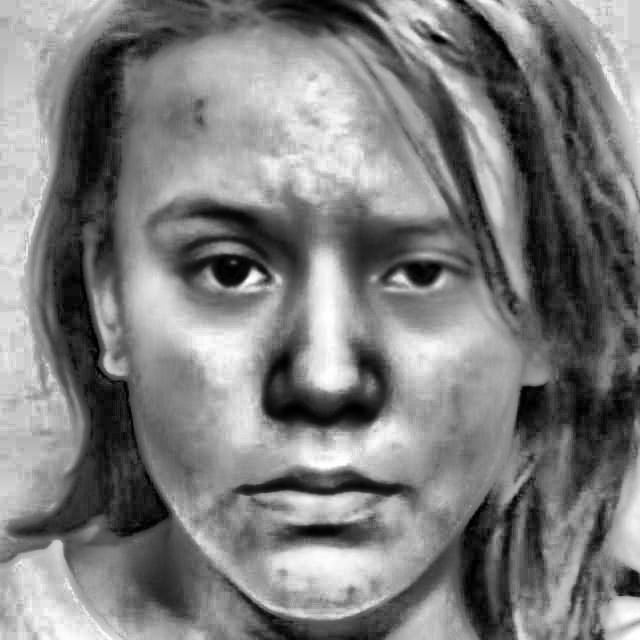sad: (146, 49, 542, 575)
